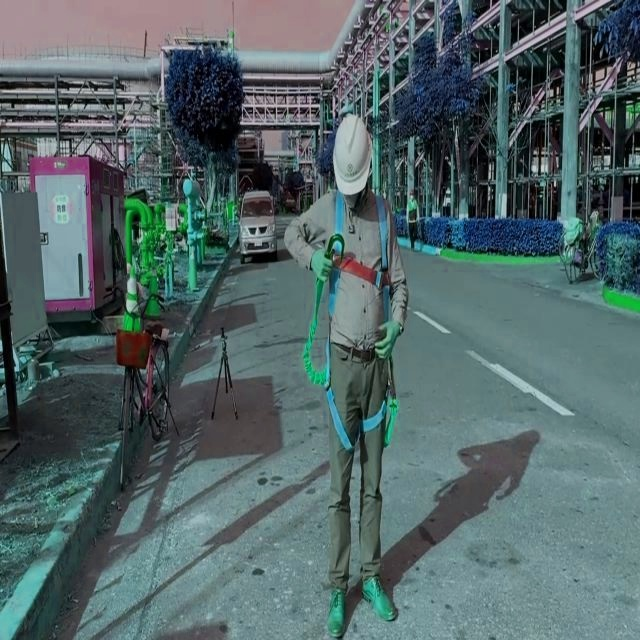safety belt: (316, 191, 402, 460)
